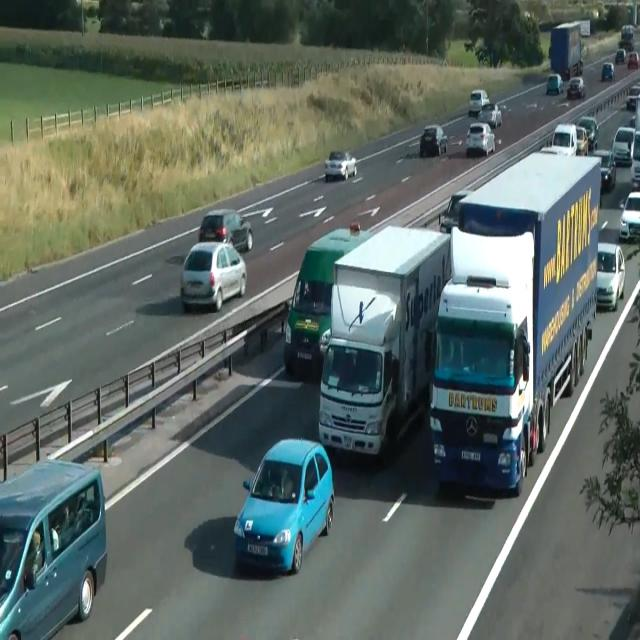bus: (233, 436, 335, 574), (596, 241, 626, 311), (439, 190, 471, 234), (324, 150, 357, 182), (591, 149, 616, 191), (420, 124, 448, 158), (466, 122, 494, 156), (578, 116, 598, 150), (478, 102, 502, 128), (468, 89, 490, 116), (566, 76, 586, 100), (575, 126, 589, 156), (319, 326, 331, 358), (546, 73, 563, 95), (626, 84, 640, 110), (601, 62, 615, 82), (627, 51, 639, 70), (621, 24, 635, 40), (615, 48, 625, 64)
car: (428, 226, 536, 496), (618, 23, 634, 50)
jeep: (0, 458, 107, 638), (179, 240, 247, 311), (198, 207, 253, 253), (619, 188, 639, 241), (611, 124, 635, 166)
minibus: (428, 149, 602, 496), (318, 223, 452, 463), (282, 221, 372, 379), (549, 21, 583, 80)
